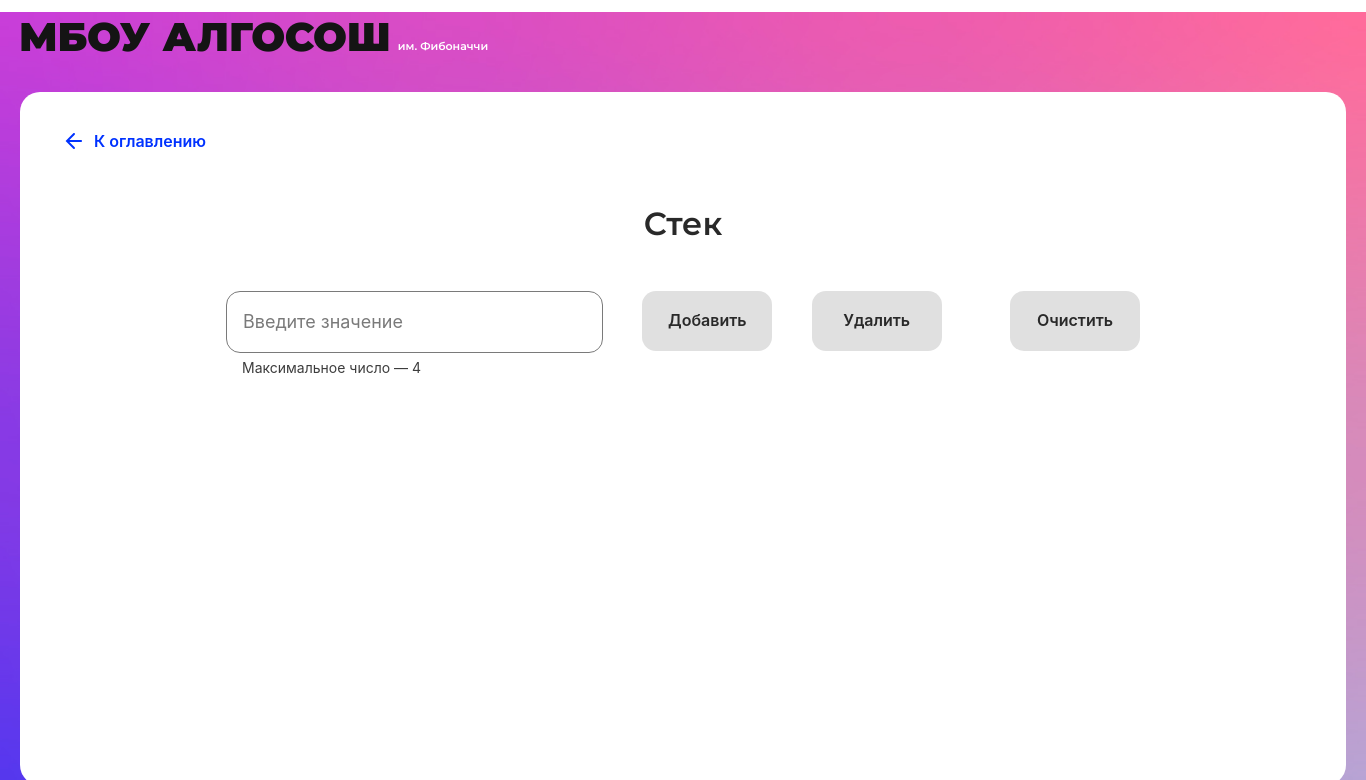
Test: stack page works correctly › button should be disabled if input is empty and active if it is not
Expected: the button with id "addButton" is disabled, [642,291,772,351]
In the element showing "Максимальное число — 4": (415, 335) [226,291,603,379], type "5"
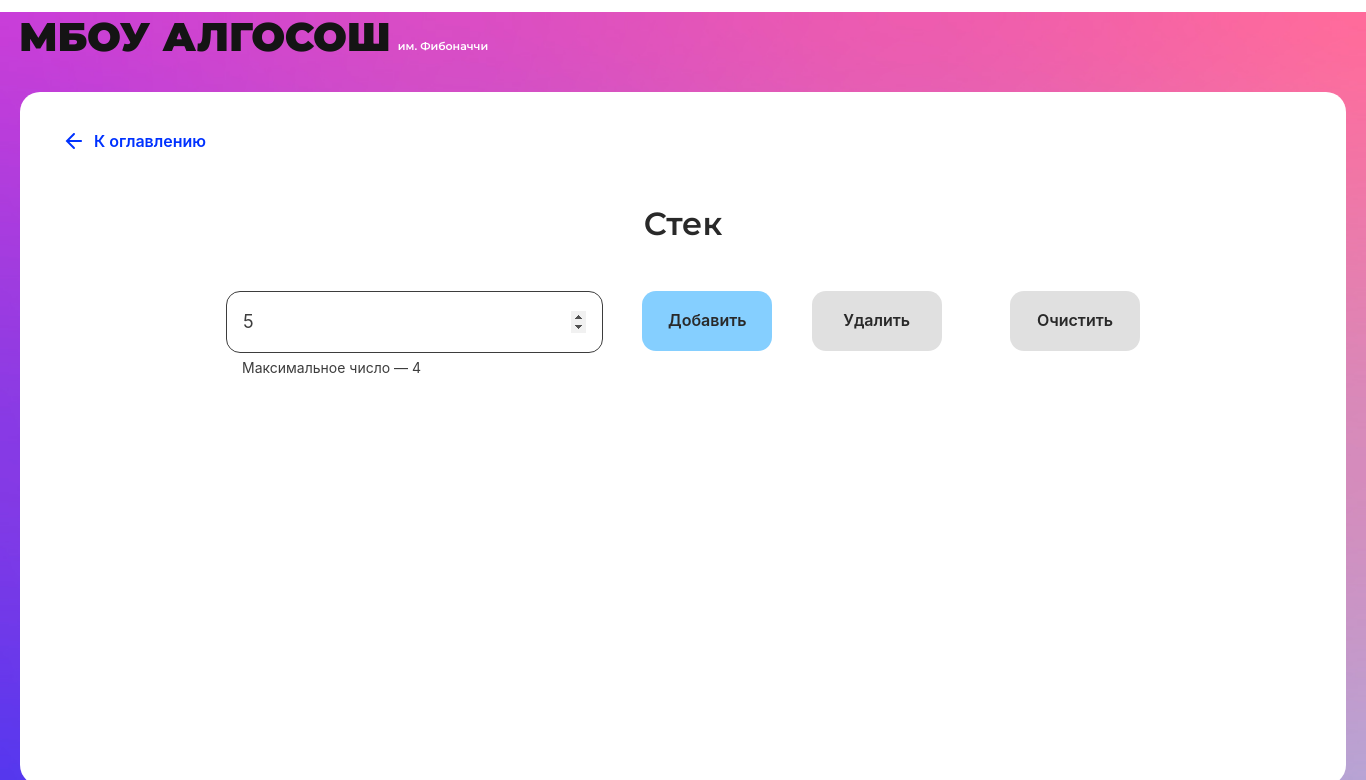
Expected: the element with id "addButton" is enabled
Press Backspace in the element showing "Максимальное число — 4", box [226,291,603,379]
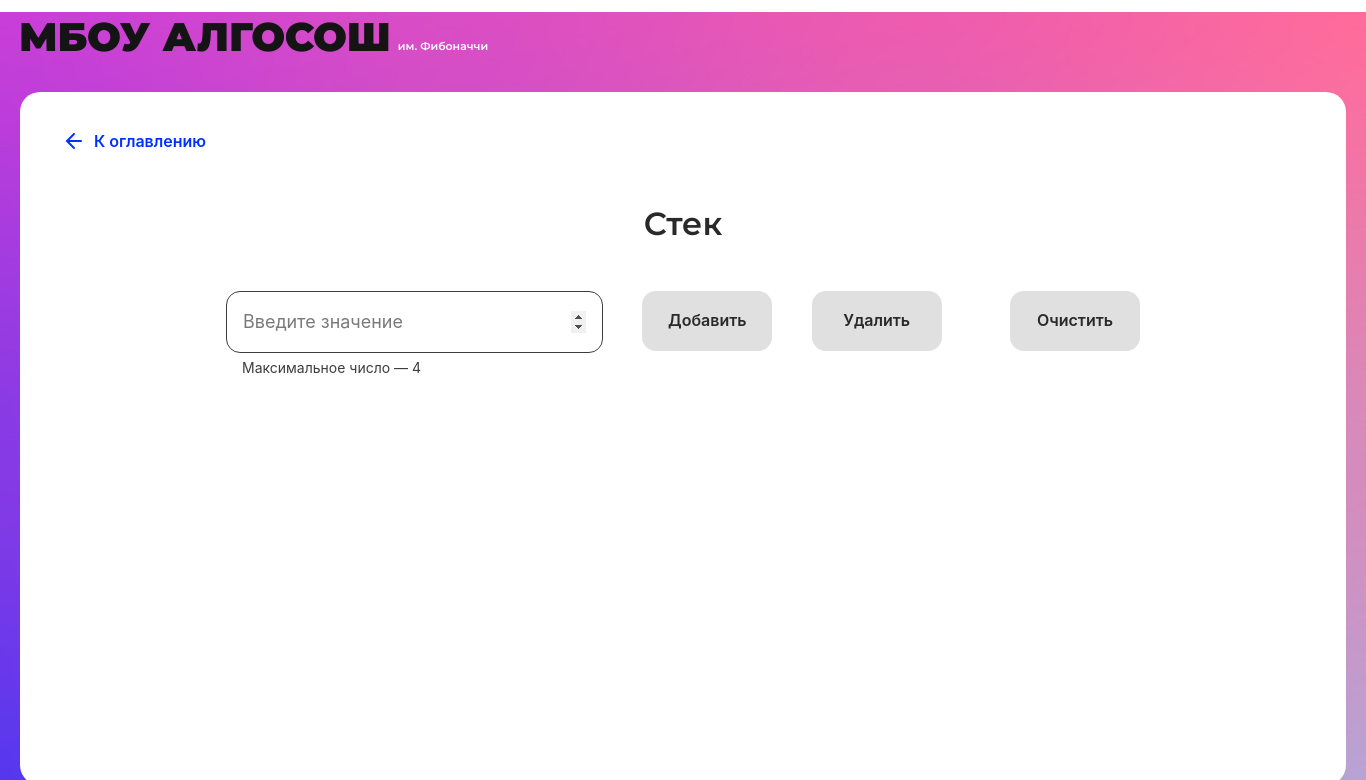
Now the button with id "addButton" is disabled, box [642,291,772,351]
